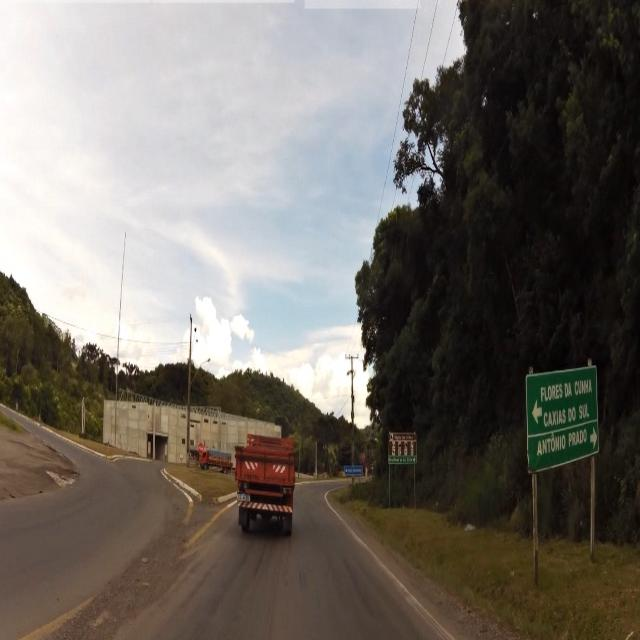I-4: (526, 371, 601, 461)
TUR-4: (387, 434, 418, 458)
